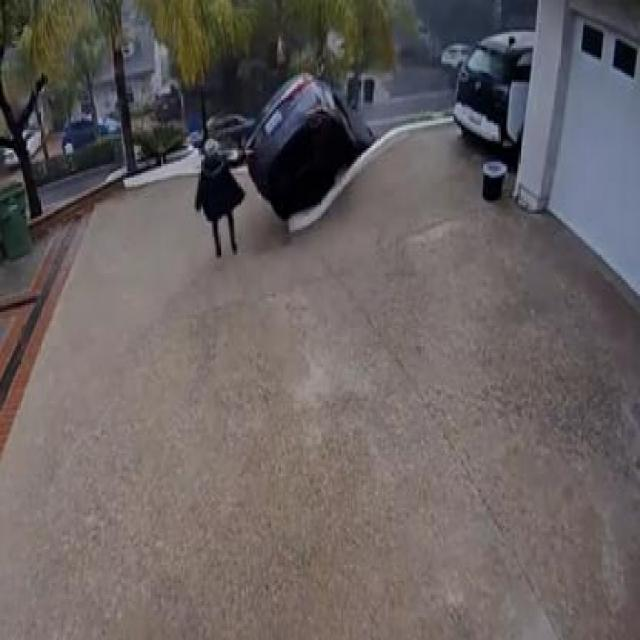accident: (240, 55, 382, 221)
